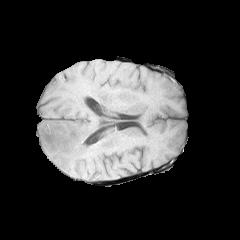glioma: (40, 93, 143, 170)
